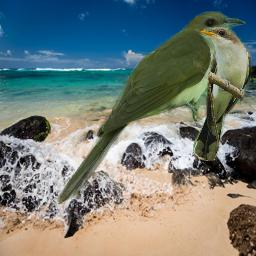Cuckoo: (57, 11, 246, 207), (193, 27, 252, 161)
